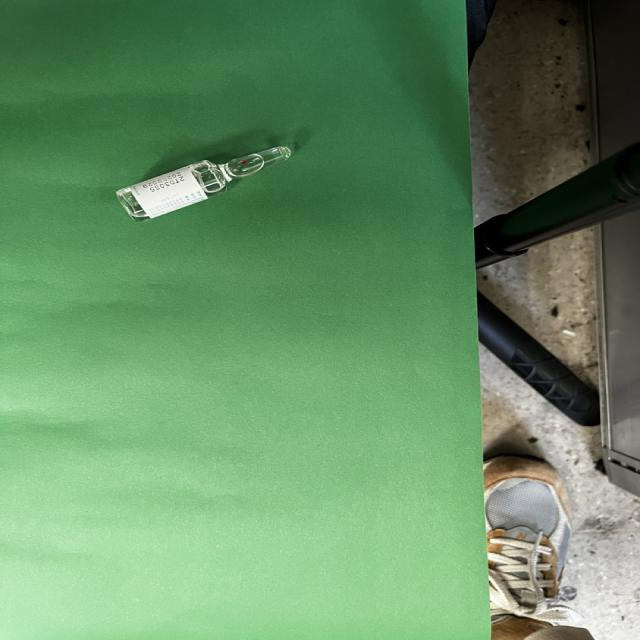Ampoules: (117, 146, 292, 218)
